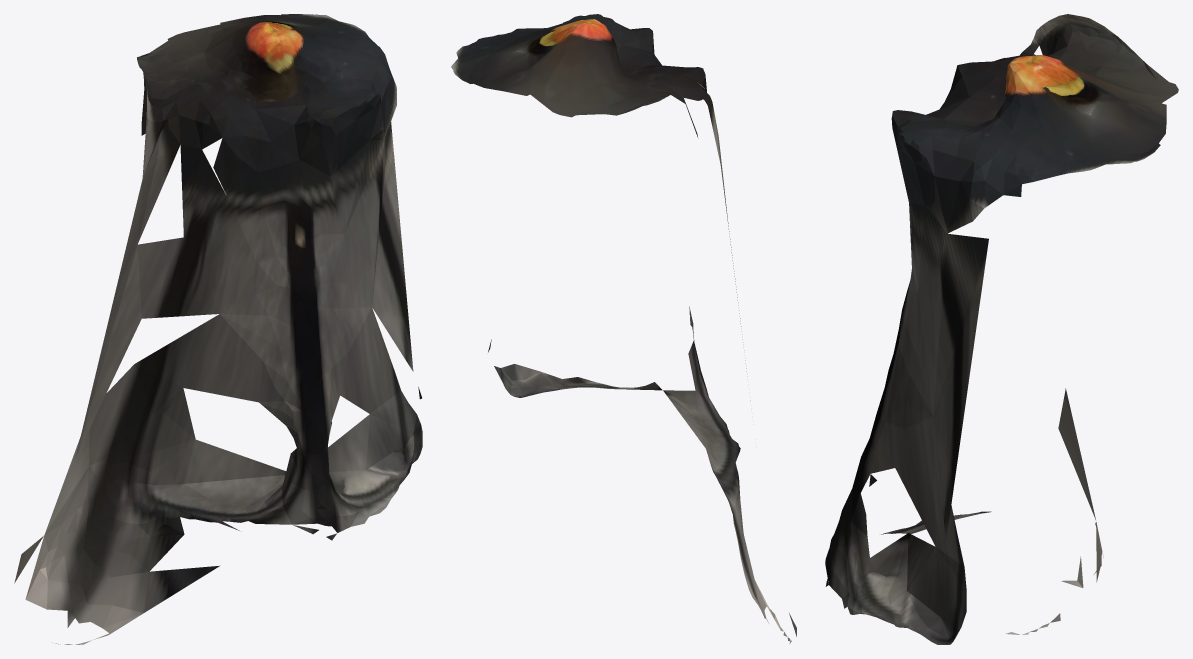
Rendered from scene-mt2onlsu.glb.
The picture shows the model from 3 angles, left to right: view 1: azimuth 30°, elevation 25°; view 2: azimuth 150°, elevation 25°; view 3: azimuth 270°, elevation 25°; orthographic projection. The views are drawn at different scales.
Parts seen in each view (by area): view 1: mesh; view 2: mesh; view 3: mesh.
Boxes of the visible parts, x1,y1,x2,y2 form: mesh: (14, 14, 422, 644); mesh: (451, 14, 796, 643); mesh: (825, 14, 1178, 644).
Size of the model in its own units: 0.4435 by 0.6747 by 0.3113.
1 material, 1 textured.
